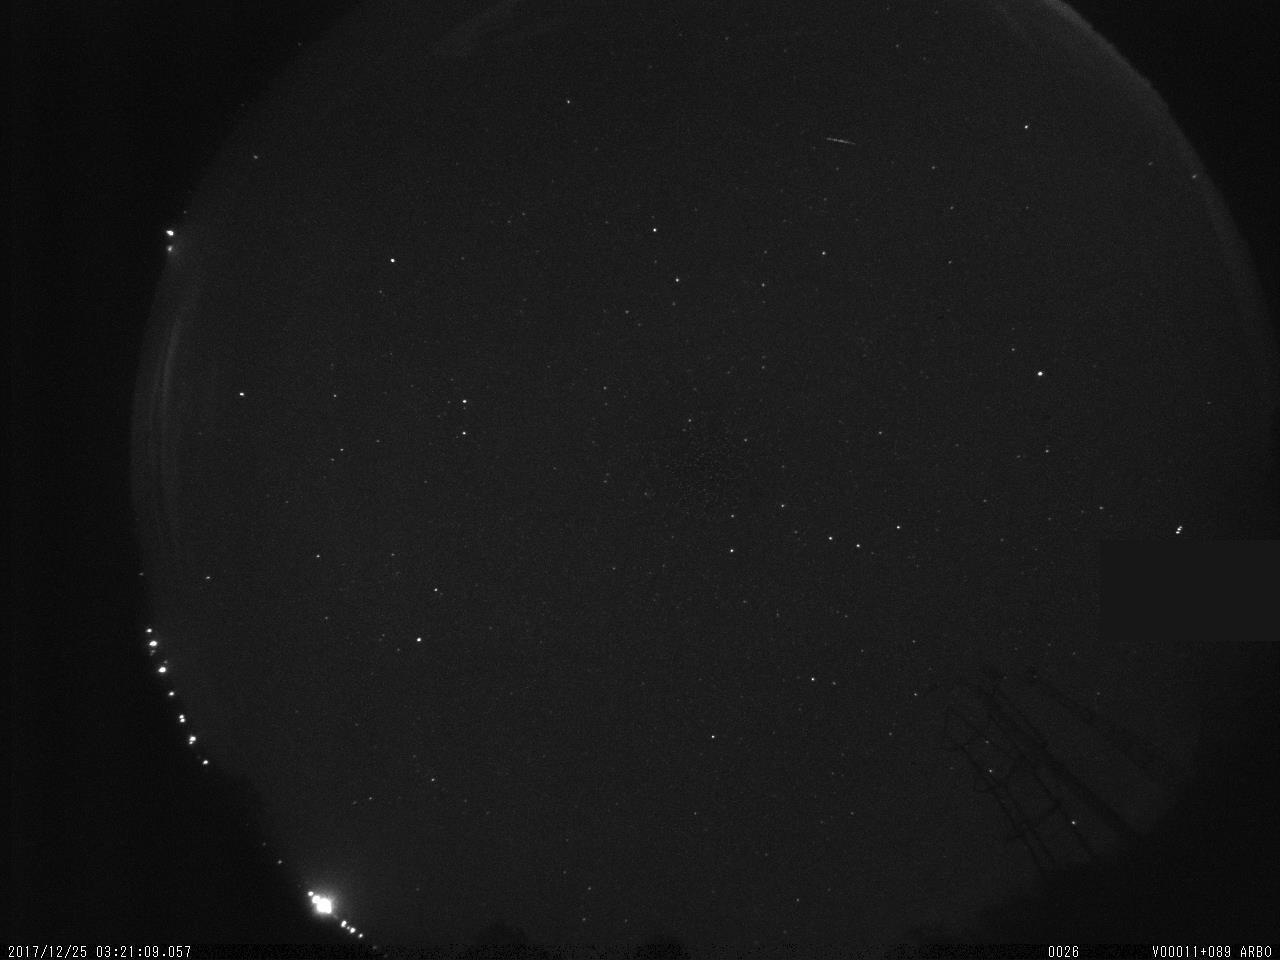Meteor: (821, 133, 860, 149)
